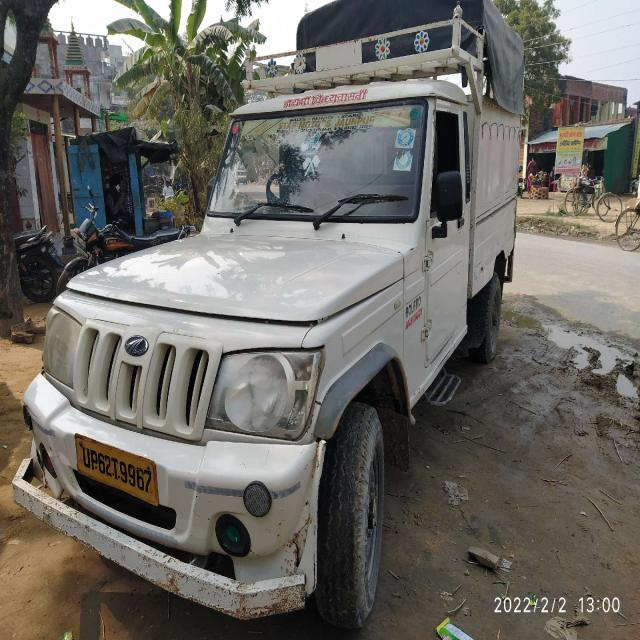light_vehicle: (21, 88, 518, 585)
